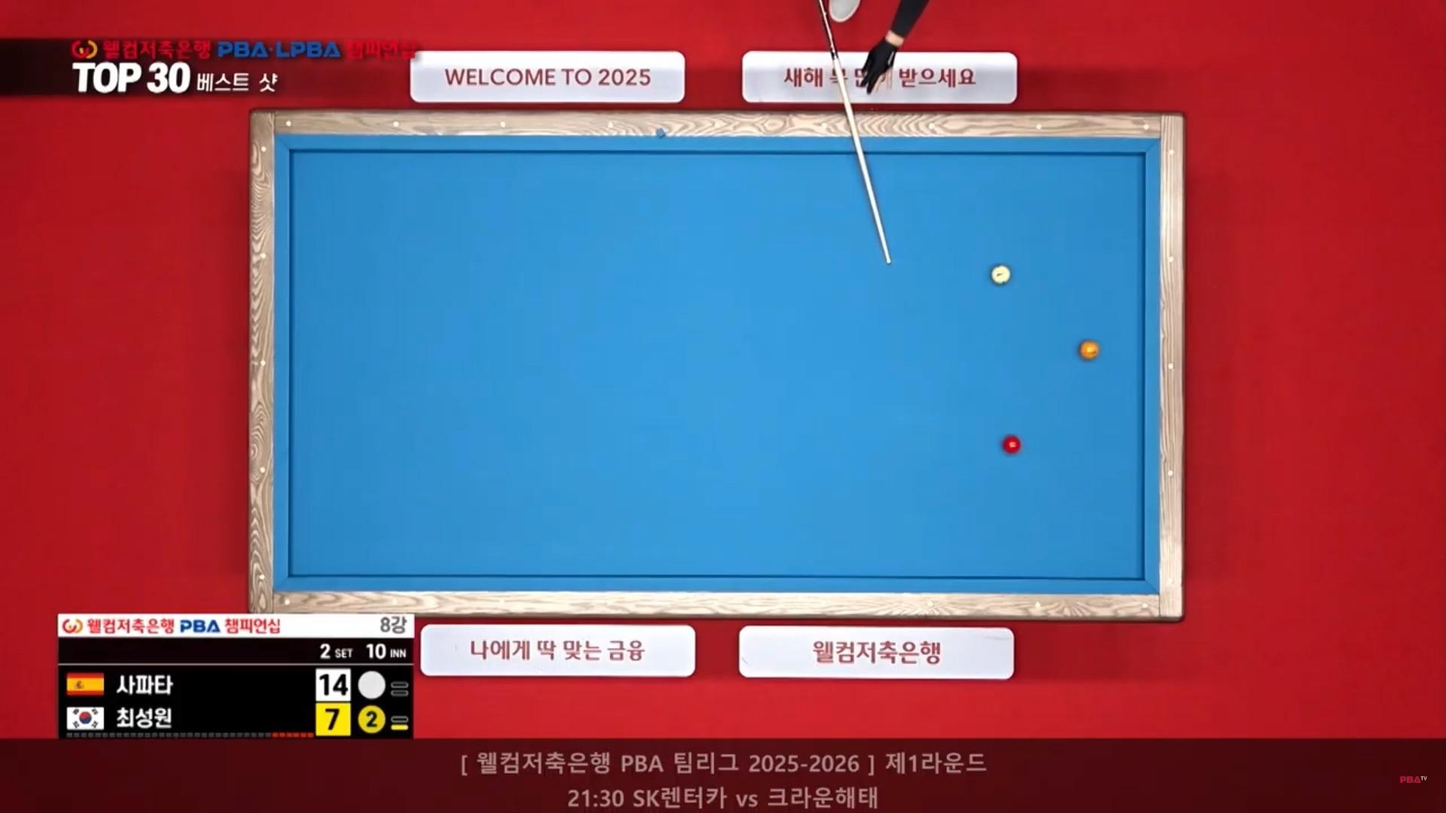-billiard-ball: (990, 263, 1011, 285)
Red: (1003, 437, 1025, 455)
White: (992, 265, 1017, 286)
Yellow: (1079, 341, 1105, 362)
